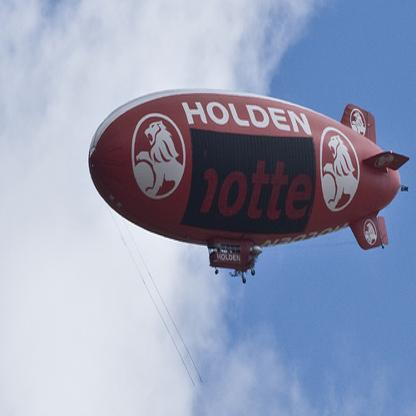Airship: (86, 89, 412, 281)
